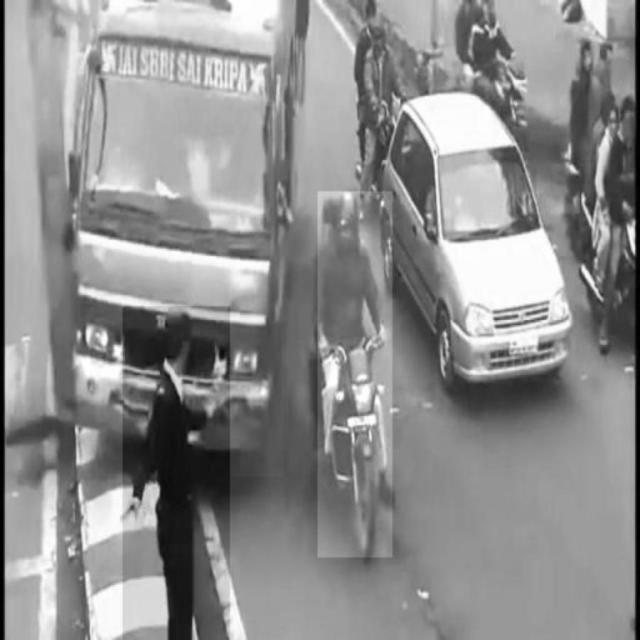person: (123, 306, 231, 640)
vehicle: (78, 0, 284, 476), (392, 95, 576, 383), (318, 191, 392, 557)
